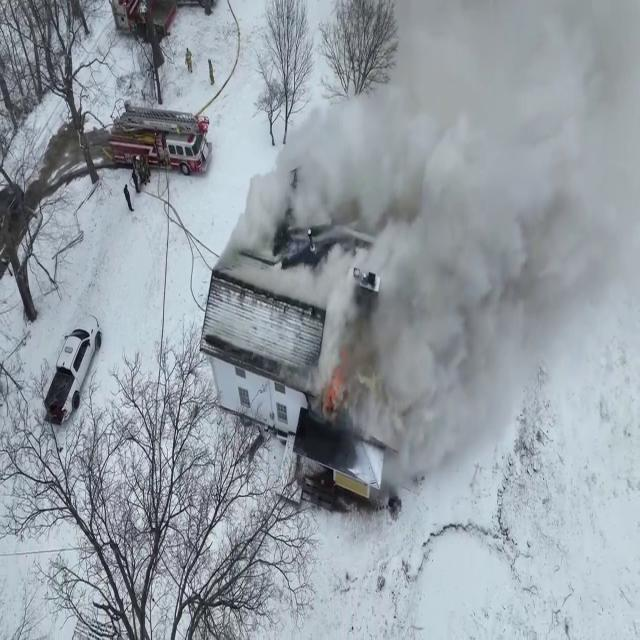Smoke: (304, 0, 624, 572)
